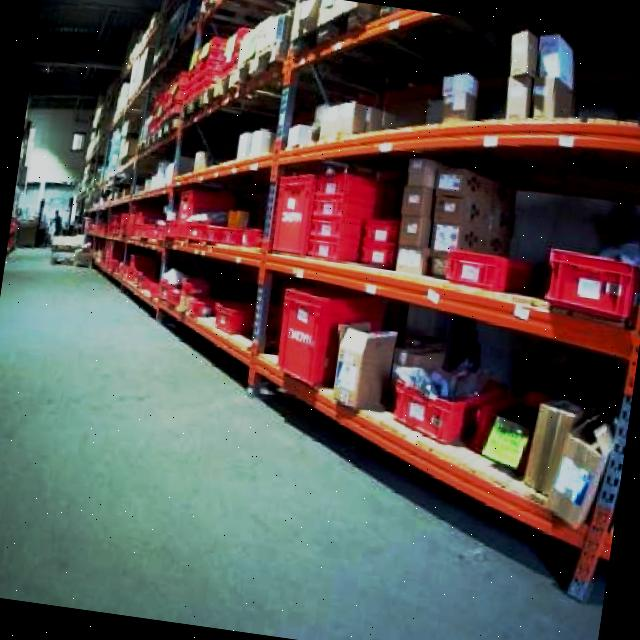ground: (0, 236, 640, 640)
pallet: (32, 0, 640, 607)
